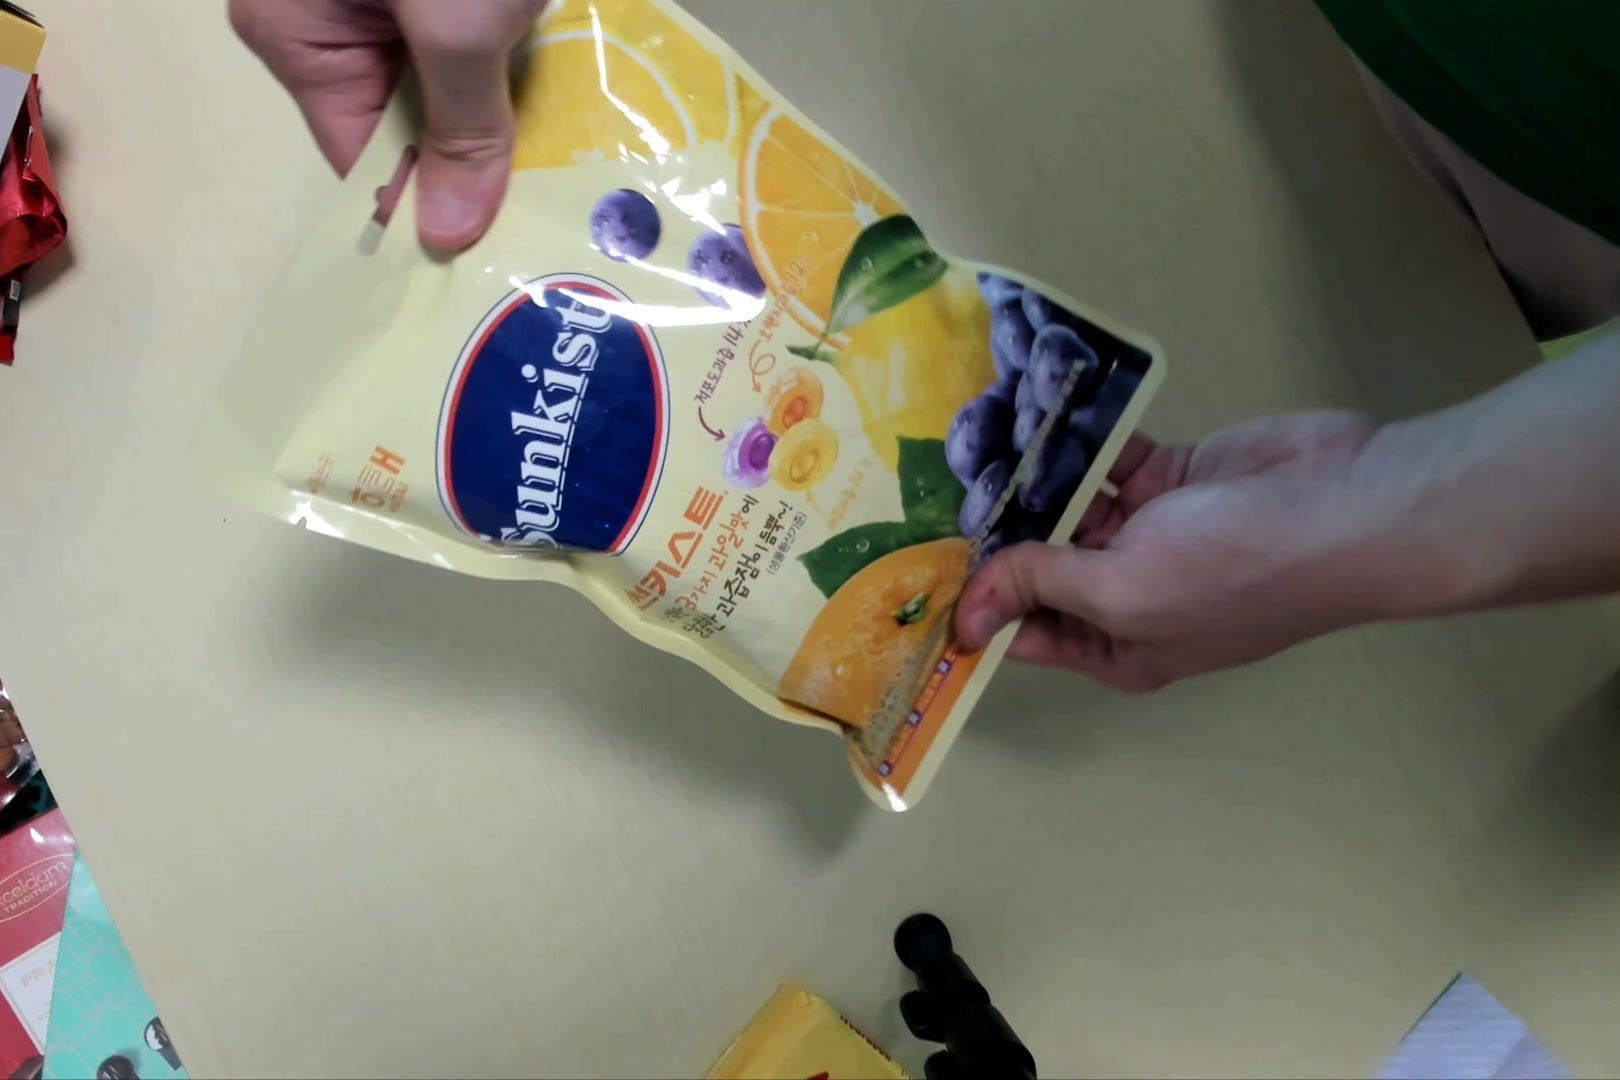SweetsChocolatesOthers_100-199g_NonHalal_NonHealthy: (246, 4, 1152, 822)
